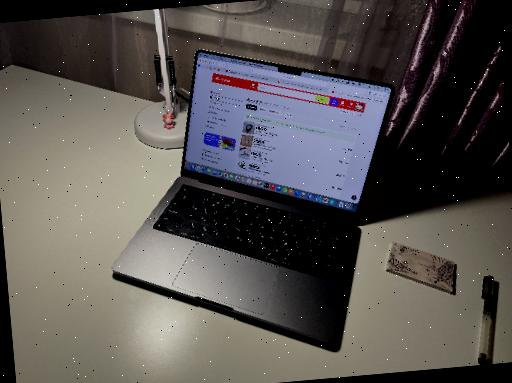aliexpress: (188, 44, 378, 190)
